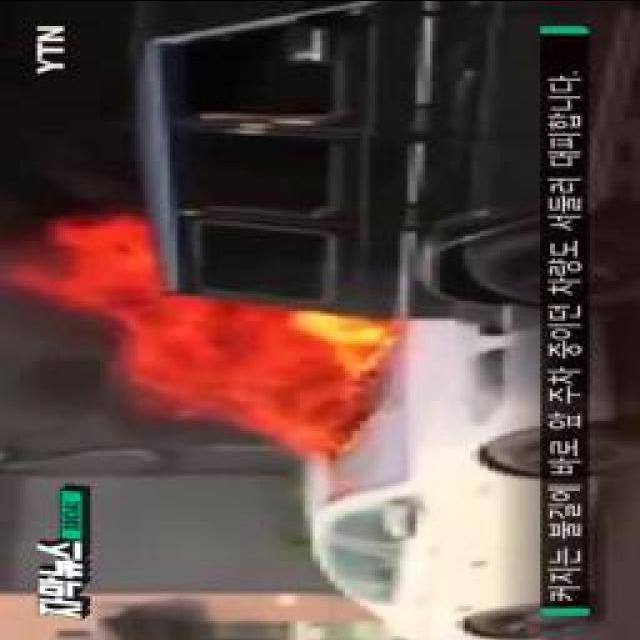Fire: (66, 224, 397, 431)
